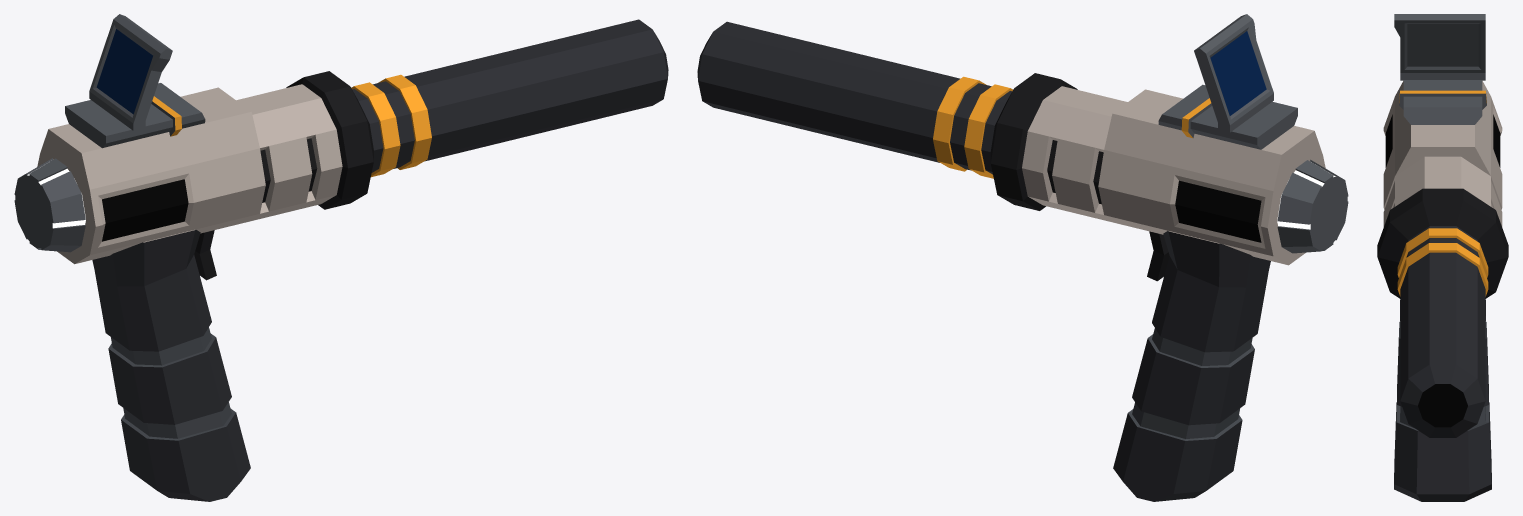
Rendered from SM_Treatment_Gun.glb.
3 renders of one model, left to right at view 1: azimuth 30°, elevation 25°; view 2: azimuth 150°, elevation 25°; view 3: azimuth 270°, elevation 25°, orthographic. The views are drawn at different scales.
Visible parts, largest first — view 1: SM_Treatment_Gun; view 2: SM_Treatment_Gun; view 3: SM_Treatment_Gun.
Boxes of the visible parts, bbox=[...] form: SM_Treatment_Gun: bbox=[14, 14, 668, 501]; SM_Treatment_Gun: bbox=[697, 14, 1348, 501]; SM_Treatment_Gun: bbox=[1377, 14, 1508, 501].
Size of the model in its own units: 0.3251 by 0.2318 by 0.0616.
2 materials, 1 textured.
